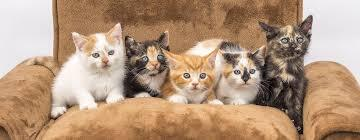kucing: (48, 27, 124, 114), (261, 12, 316, 126), (215, 42, 264, 109), (127, 27, 169, 103), (170, 47, 212, 112)
